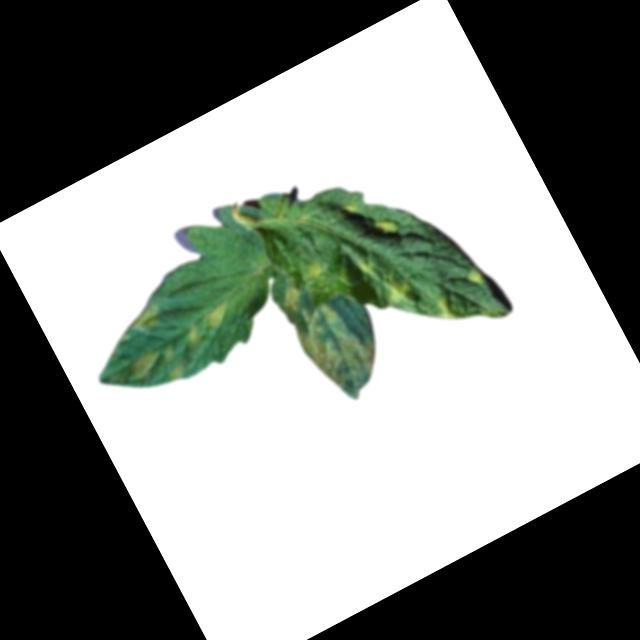Leaf_Mold: (267, 260, 394, 409), (123, 340, 190, 399), (177, 298, 240, 351), (368, 266, 418, 314), (123, 298, 166, 337), (346, 249, 384, 288), (428, 289, 464, 328), (295, 252, 332, 289), (458, 264, 489, 293), (370, 215, 399, 243)
